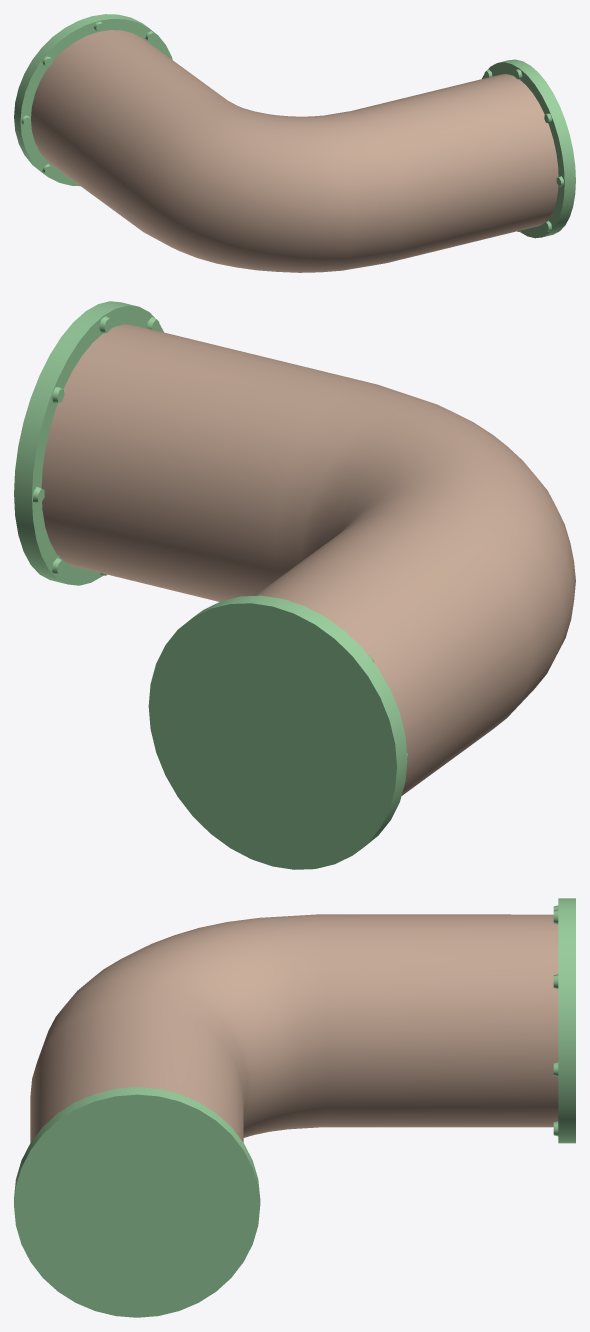
The model's file is Pipe_01a_snaps020.FBX.
3 views of the same model, one above another, from view 1: azimuth 30°, elevation 25°; view 2: azimuth 150°, elevation 25°; view 3: azimuth 270°, elevation 25° (orthographic). The views are drawn at different scales.
Parts seen in each view (by area): view 1: Pipe_01a_snaps020_LOD0; view 2: Pipe_01a_snaps020_LOD0; view 3: Pipe_01a_snaps020_LOD0.
Part boxes in pixels (bbox=[...]): Pipe_01a_snaps020_LOD0: bbox=[14, 14, 575, 272]; Pipe_01a_snaps020_LOD0: bbox=[14, 301, 575, 869]; Pipe_01a_snaps020_LOD0: bbox=[14, 898, 575, 1317].
Size of what is drawn, in the model's own units: 1.28 by 1.28 by 0.5618.
